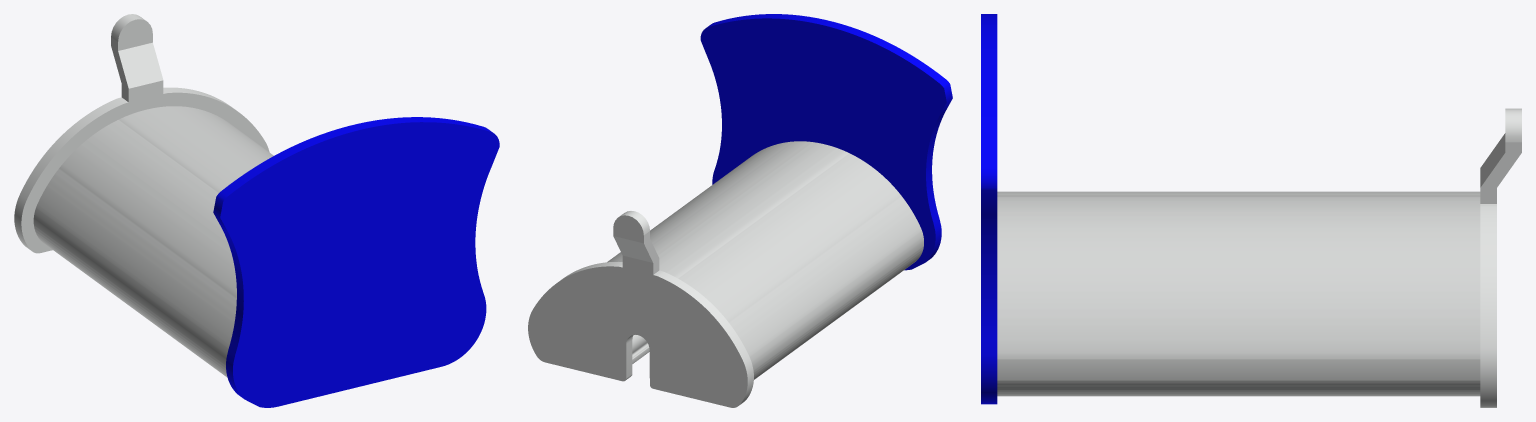
The model's file is EZR_MDL-L87-NT.glb.
3 renders of one model, left to right at view 1: azimuth 30°, elevation 25°; view 2: azimuth 150°, elevation 25°; view 3: azimuth 270°, elevation 25°, orthographic. The views are drawn at different scales.
Parts seen in each view (by area): view 1: Geom3D, Geom3D_ (×3); view 2: Geom3D_ (×3), Geom3D; view 3: Geom3D_ (×3), Geom3D.
Part boxes in pixels (x1,y1,x2,y2): Geom3D: [213, 117, 499, 407]; Geom3D_ (×3): [14, 14, 273, 377]; Geom3D_ (×3): [528, 141, 923, 407]; Geom3D: [700, 14, 952, 270]; Geom3D_ (×3): [997, 108, 1521, 407]; Geom3D: [981, 14, 997, 404].
Size of the model in its own units: 0.0684 by 0.06 by 0.0974.
